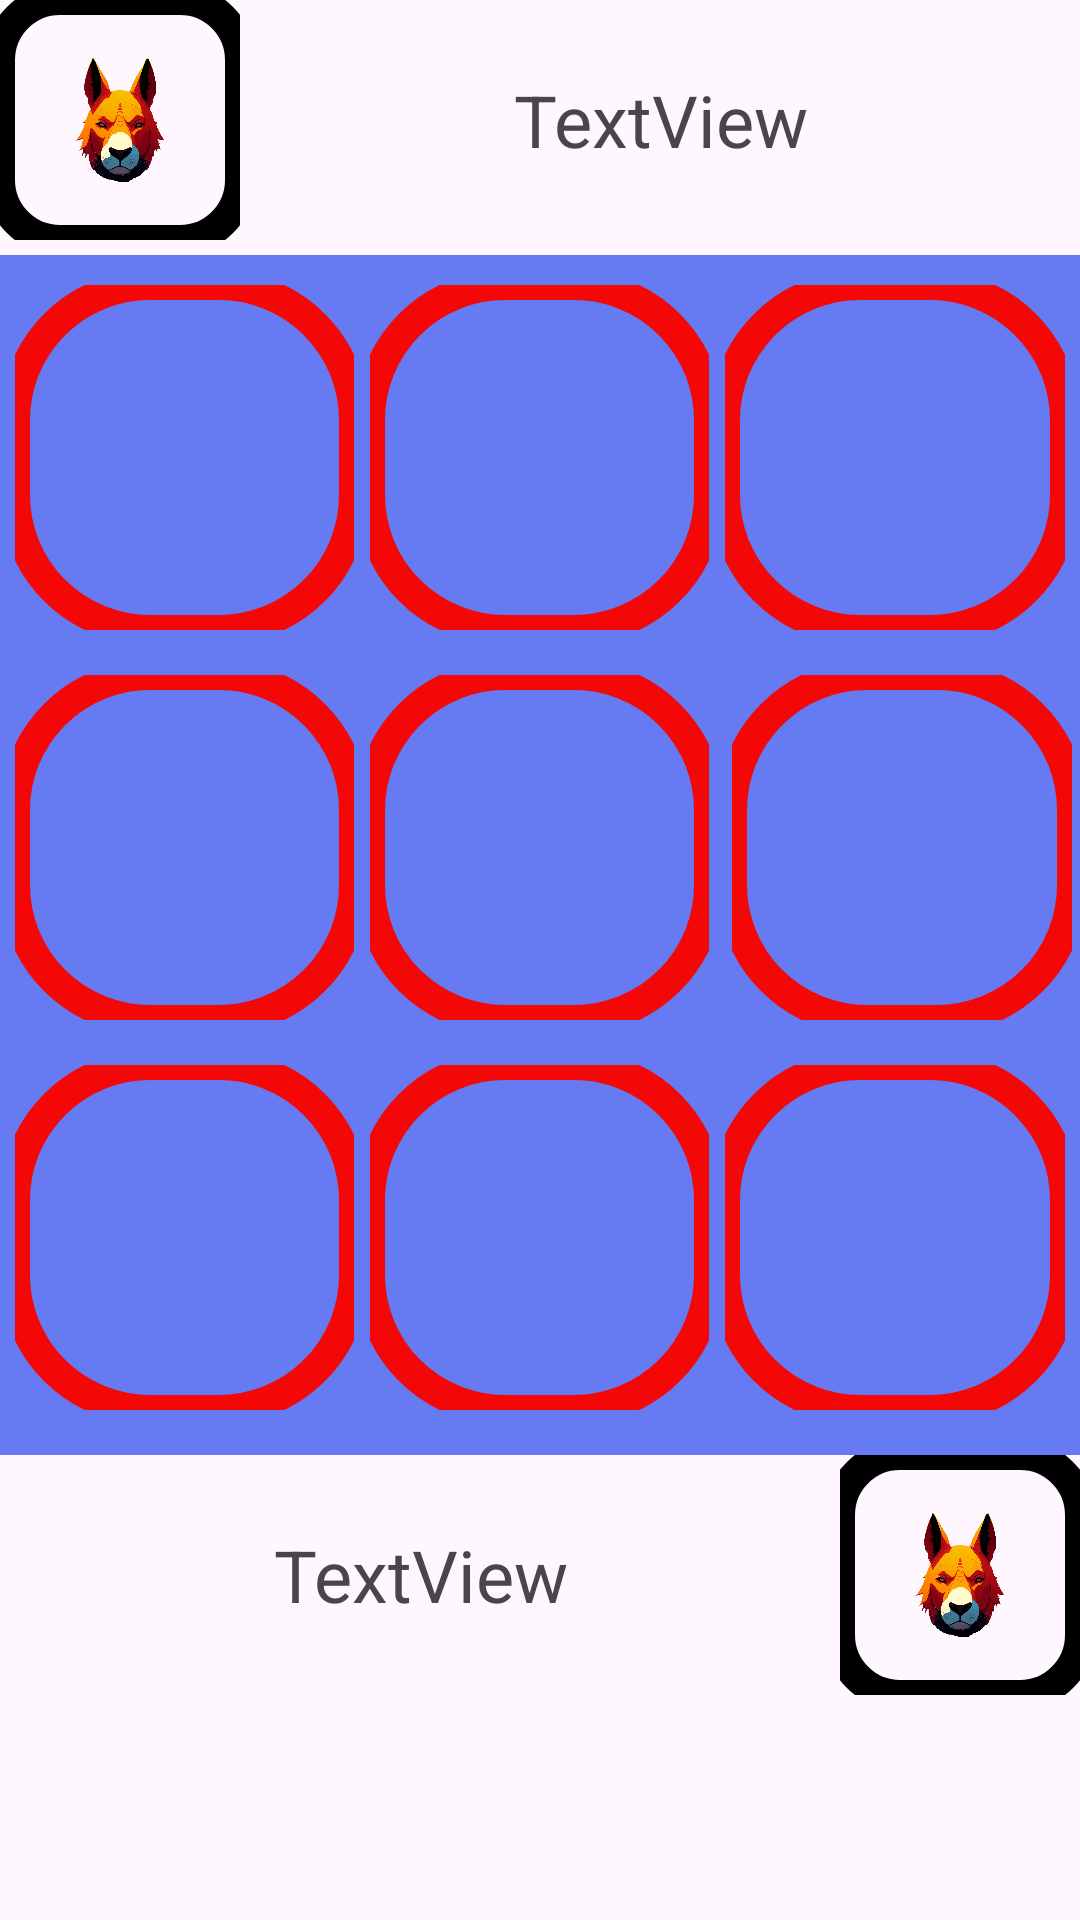

Where icons sit on this 1080px×1920px app screen, as (left=x1, top=y1, right=x2, bottom=y2):
wolf head: (left=0, top=0, right=240, bottom=240), (left=840, top=1455, right=1080, bottom=1695)
